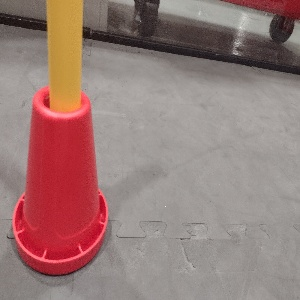Red_1: (8, 84, 109, 275)
